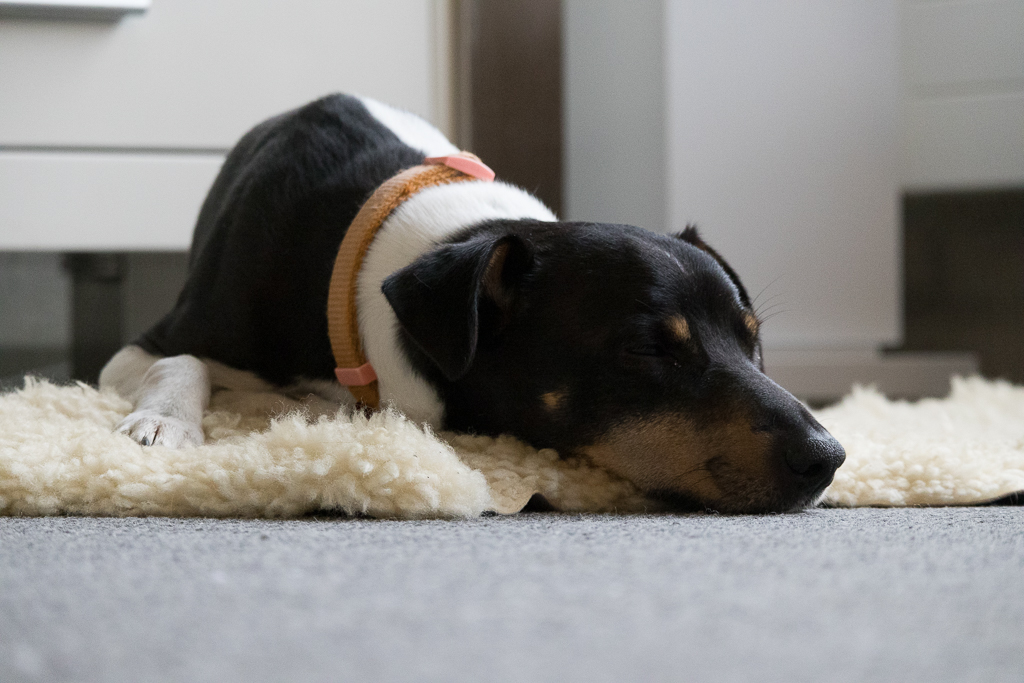Dog: (96, 92, 849, 520)
